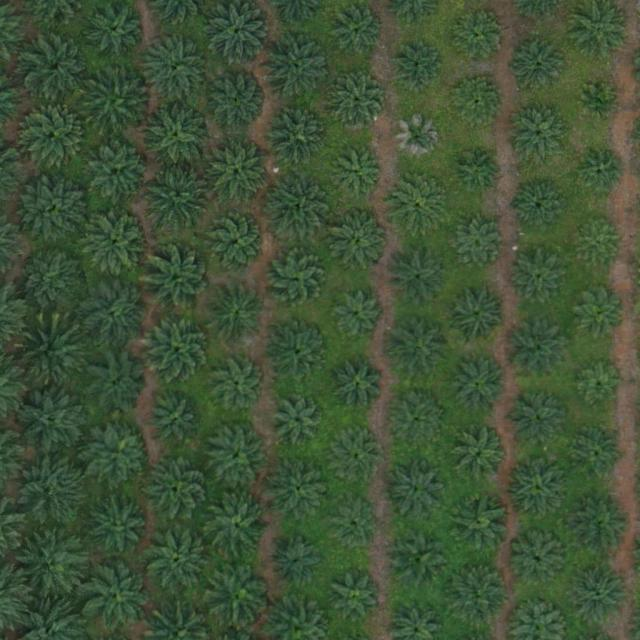Dead: (396, 116, 443, 163)
Healthy: (141, 101, 212, 172), (146, 163, 217, 234), (142, 245, 213, 316), (84, 66, 154, 137), (140, 35, 210, 106), (263, 32, 333, 103), (263, 173, 333, 244), (144, 314, 214, 385), (17, 247, 87, 318), (16, 319, 86, 390), (15, 454, 86, 524), (84, 562, 154, 633), (143, 524, 213, 595), (23, 35, 93, 105), (22, 175, 92, 245), (18, 385, 88, 455), (19, 529, 89, 599), (24, 104, 87, 167), (390, 173, 453, 236), (445, 214, 508, 277), (445, 283, 508, 346), (385, 459, 448, 522), (87, 354, 150, 417), (88, 140, 150, 203), (267, 105, 329, 168), (569, 495, 632, 557), (505, 319, 567, 382), (448, 492, 510, 555), (387, 245, 449, 308), (389, 317, 451, 380), (329, 210, 392, 272), (270, 458, 332, 521), (206, 283, 268, 346), (207, 425, 269, 488), (207, 498, 269, 561), (147, 459, 209, 522), (84, 212, 146, 275), (82, 282, 144, 345), (88, 423, 150, 486), (86, 494, 148, 557), (207, 563, 270, 625), (389, 528, 451, 591), (448, 561, 510, 624), (572, 564, 634, 627), (207, 70, 269, 132), (208, 143, 270, 205), (507, 457, 569, 519), (266, 249, 328, 311), (269, 321, 331, 383), (206, 212, 268, 274), (451, 76, 506, 132), (514, 180, 569, 236), (453, 13, 508, 68), (512, 109, 567, 164), (573, 428, 628, 483), (511, 252, 566, 307), (511, 393, 566, 448), (390, 398, 445, 453), (331, 291, 386, 346), (149, 393, 204, 448), (512, 534, 567, 589), (330, 8, 384, 63), (332, 76, 386, 131), (512, 41, 566, 96), (451, 360, 505, 415), (453, 429, 507, 484), (273, 393, 327, 448), (212, 358, 266, 413), (336, 149, 383, 197), (337, 363, 384, 411), (275, 539, 322, 587), (334, 572, 381, 620), (394, 45, 441, 92), (574, 219, 621, 266), (336, 433, 383, 480), (331, 505, 378, 552)
Small: (451, 143, 506, 198), (571, 285, 625, 340), (579, 150, 626, 197), (578, 364, 625, 411), (580, 84, 620, 124)
